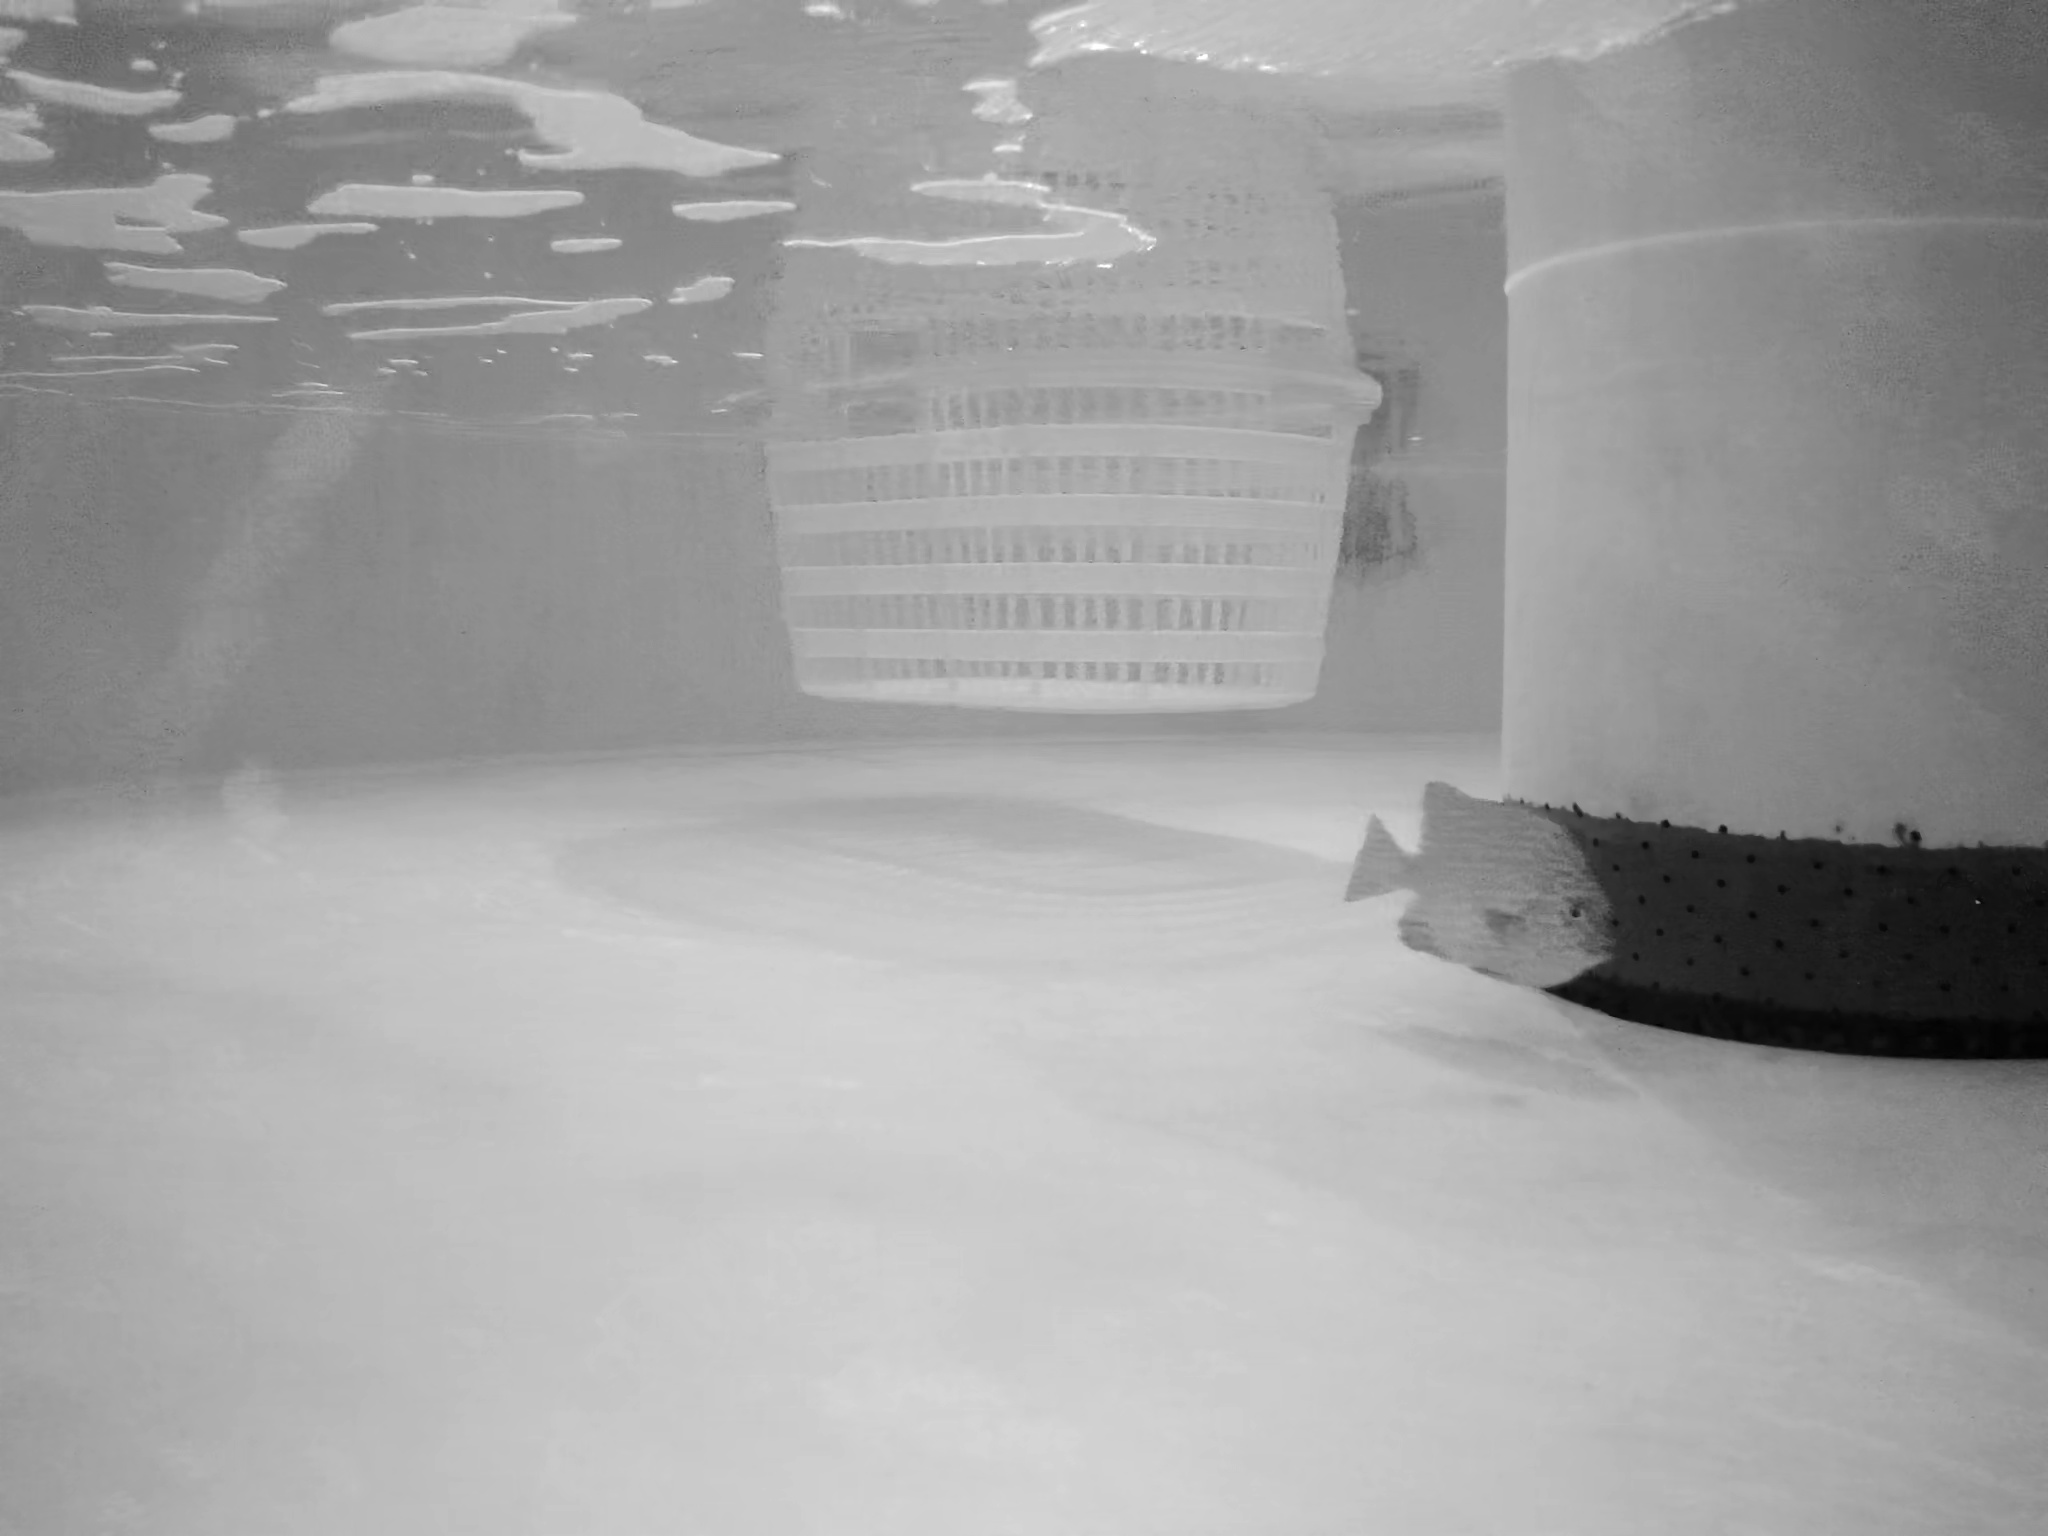fish: (1356, 774, 1619, 997)
